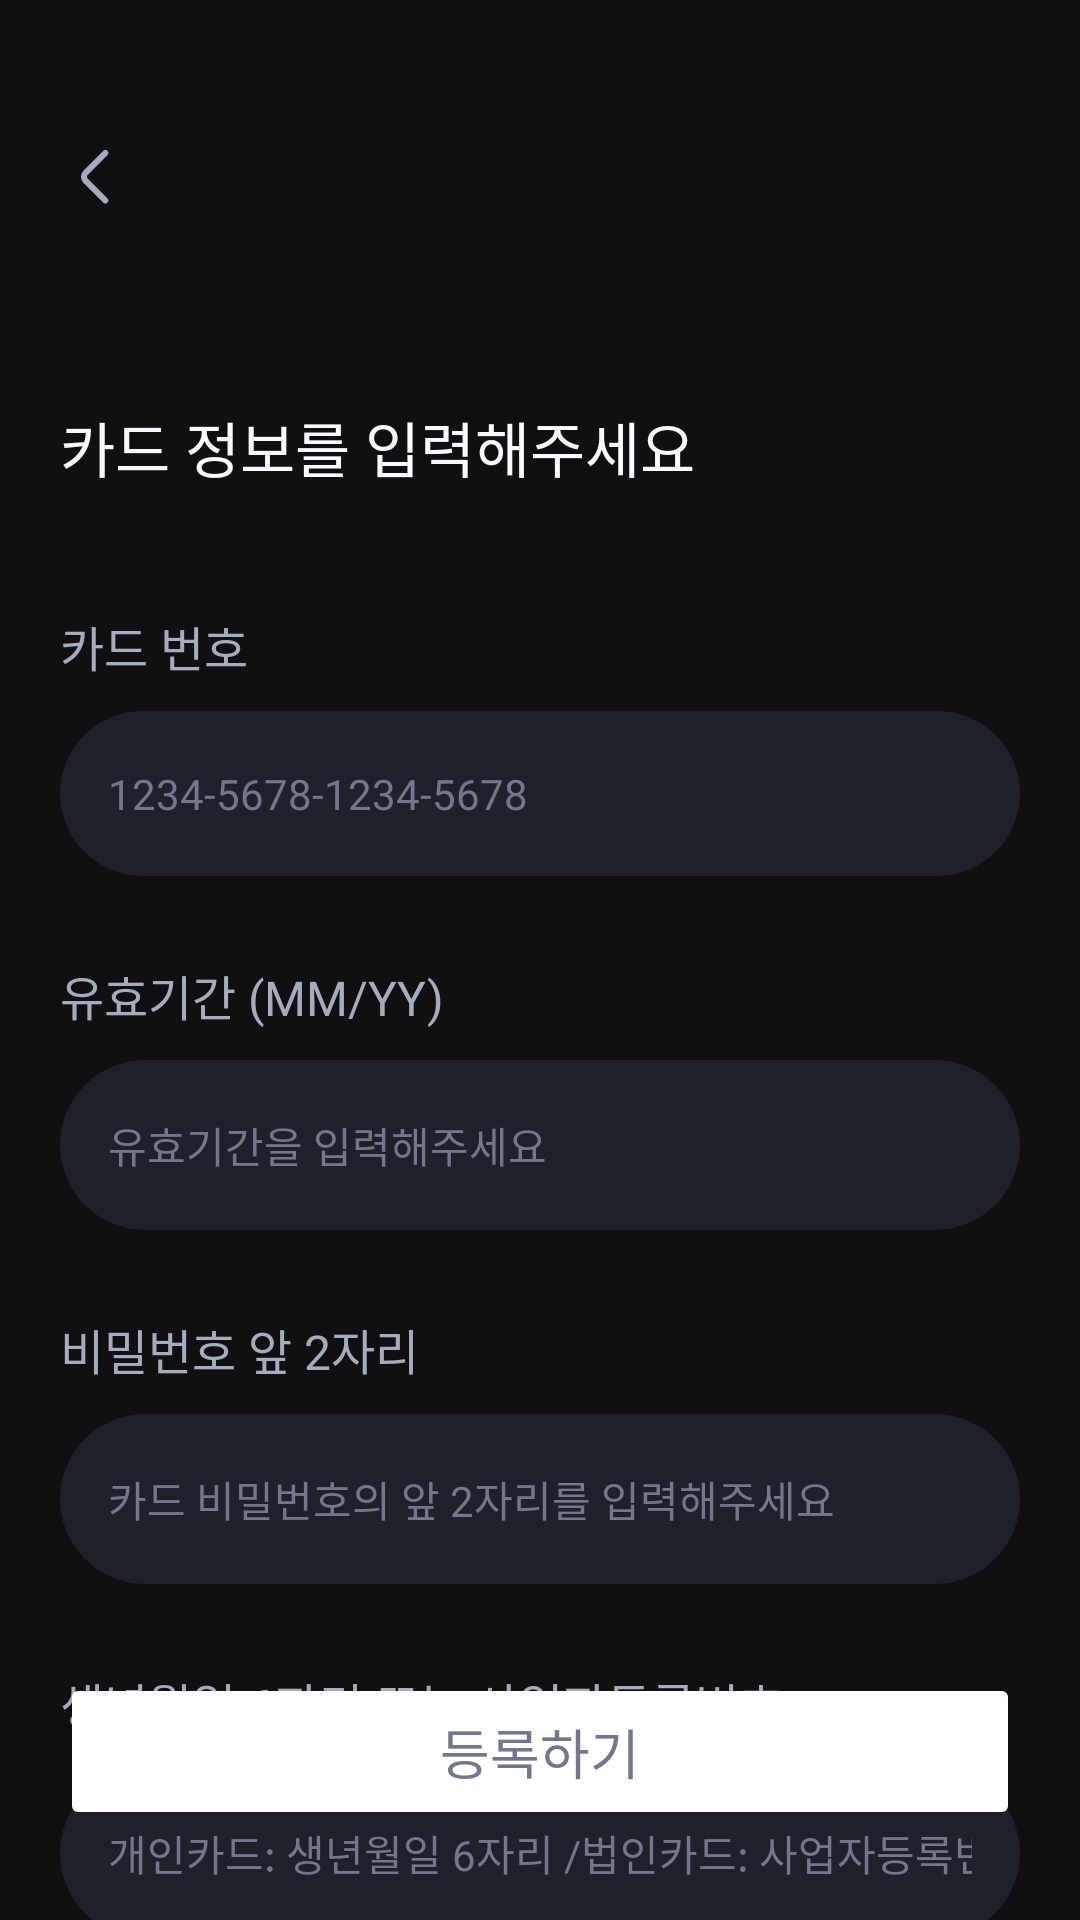

Icon bounding boxes for this 1080 x 1920 phone screenshot, format box=[x1, y1, x2, y2]:
arrow left: box=[81, 150, 109, 204]
